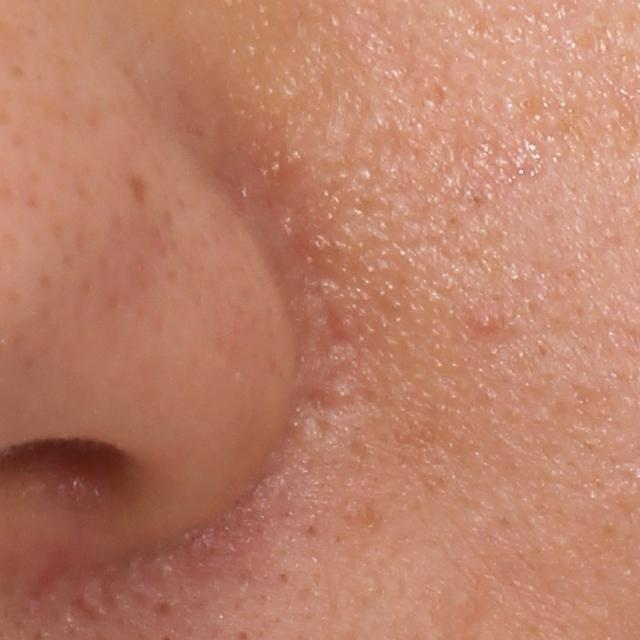atrophic_scar: (70, 583, 116, 629)
comedo: (518, 92, 536, 113)
papule: (464, 298, 510, 347)
